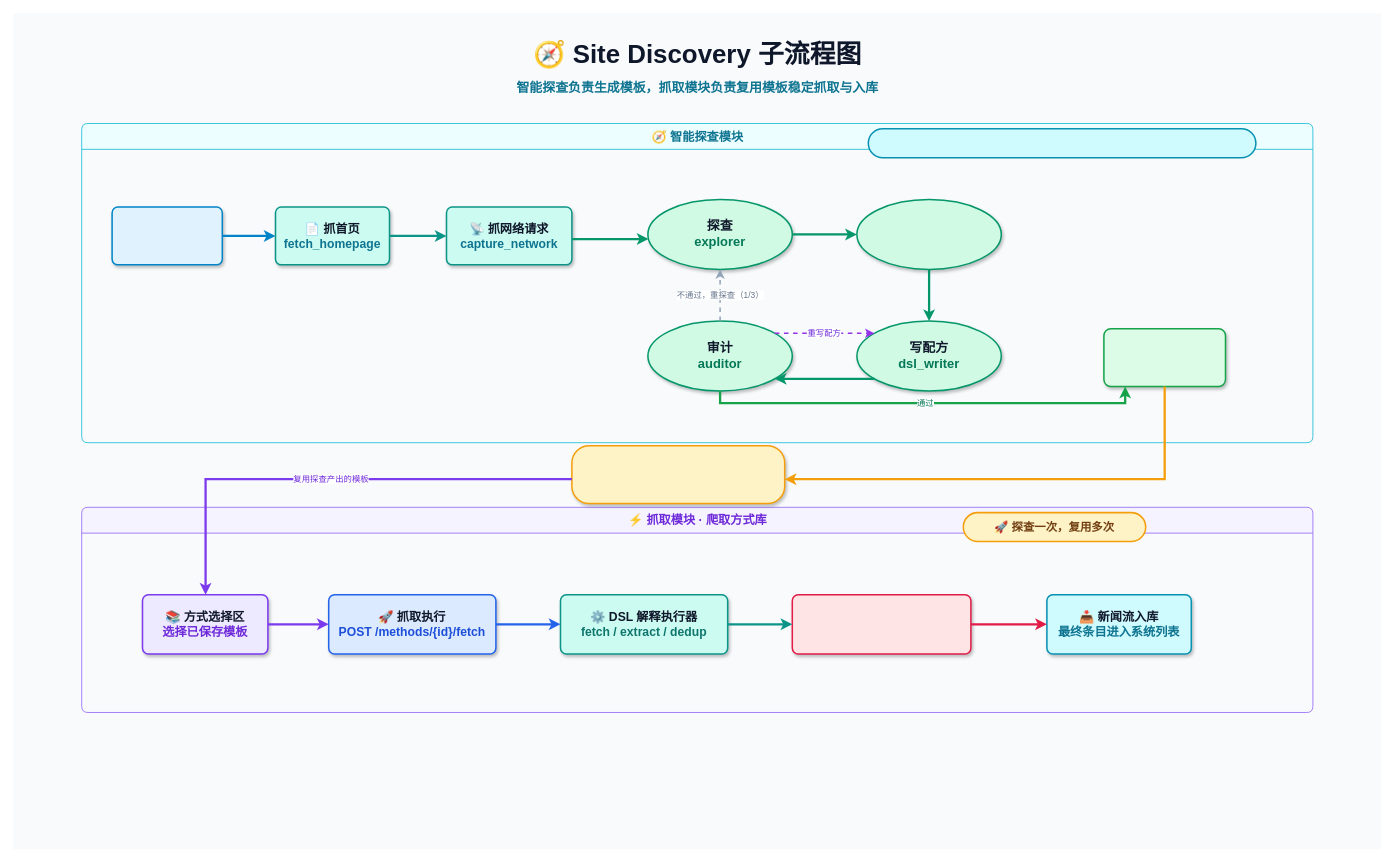
This 1394x862 diagram has some shape labels left out. Each missing label, with the centre of its shape:
验证 URL validator: [929,235]
🌐 输入站点 URL + 可选名称: [167,237]
💾 存库 save_method: [1165,358]
💾 爬取方式库 Crawl Method / DSL Recipe: [679,475]
🧠 supervisor 按 State 路由 explorer / validator / dsl_writer / auditor: [1061,143]
🧪 新闻处理流水线 去重 / 富化 / 评分 / 摘要: [882,625]
